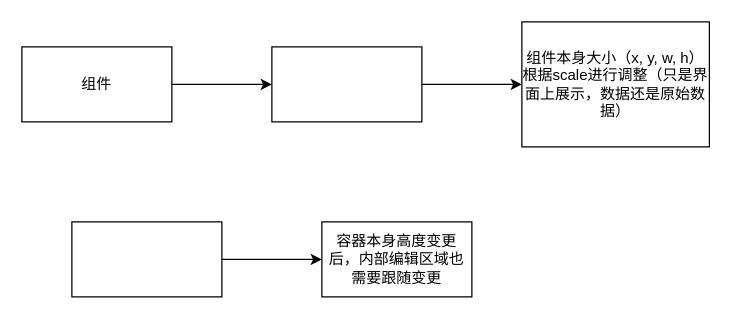
This 731x319 diagram has some shape labels left out. Each missing label, with the box of its shape:
拖拽: (271, 46, 422, 122)
画布动态调整: (71, 221, 222, 297)
